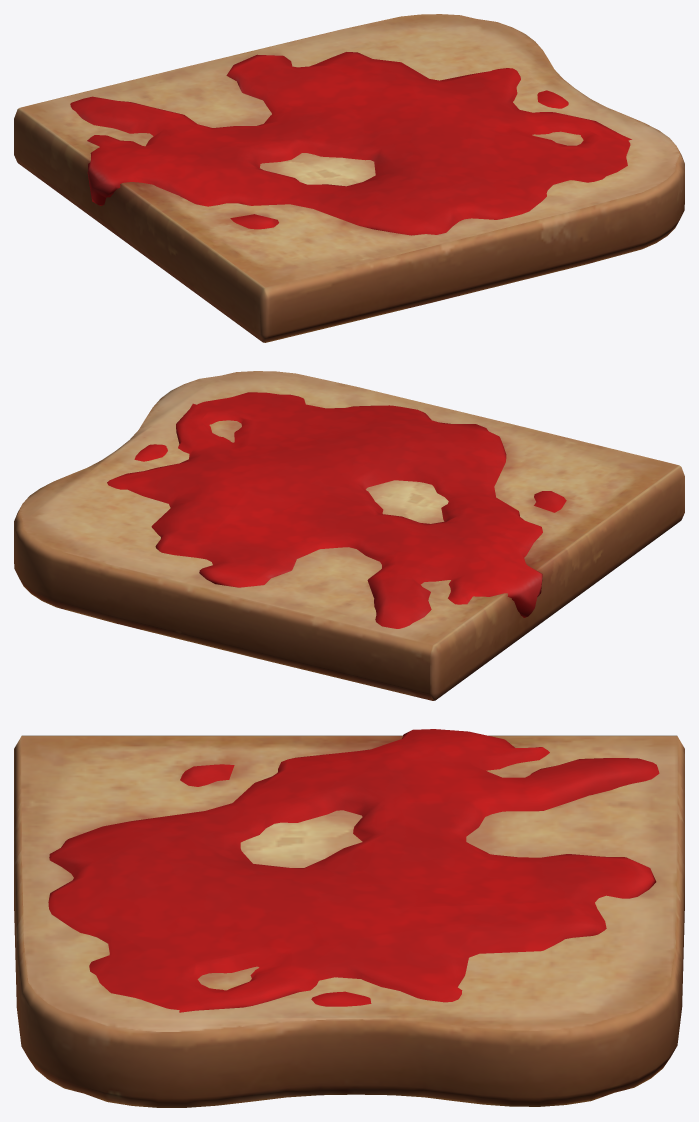
File: SM_BreakfastProps_Bread.fbx
The picture shows the model from 3 angles, top to bottom: view 1: azimuth 30°, elevation 25°; view 2: azimuth 150°, elevation 25°; view 3: azimuth 270°, elevation 25°; orthographic projection. The views are drawn at different scales.
Parts seen in each view (by area): view 1: SM_BreakfastProps_Bread_LOD0; view 2: SM_BreakfastProps_Bread_LOD0; view 3: SM_BreakfastProps_Bread_LOD0.
Boxes of the visible parts, bbox=[...] form: SM_BreakfastProps_Bread_LOD0: bbox=[14, 14, 684, 342]; SM_BreakfastProps_Bread_LOD0: bbox=[14, 371, 684, 700]; SM_BreakfastProps_Bread_LOD0: bbox=[14, 729, 684, 1107].
Size of the model in its own units: 18.26 by 16.71 by 2.55.
1 material, 1 textured.
